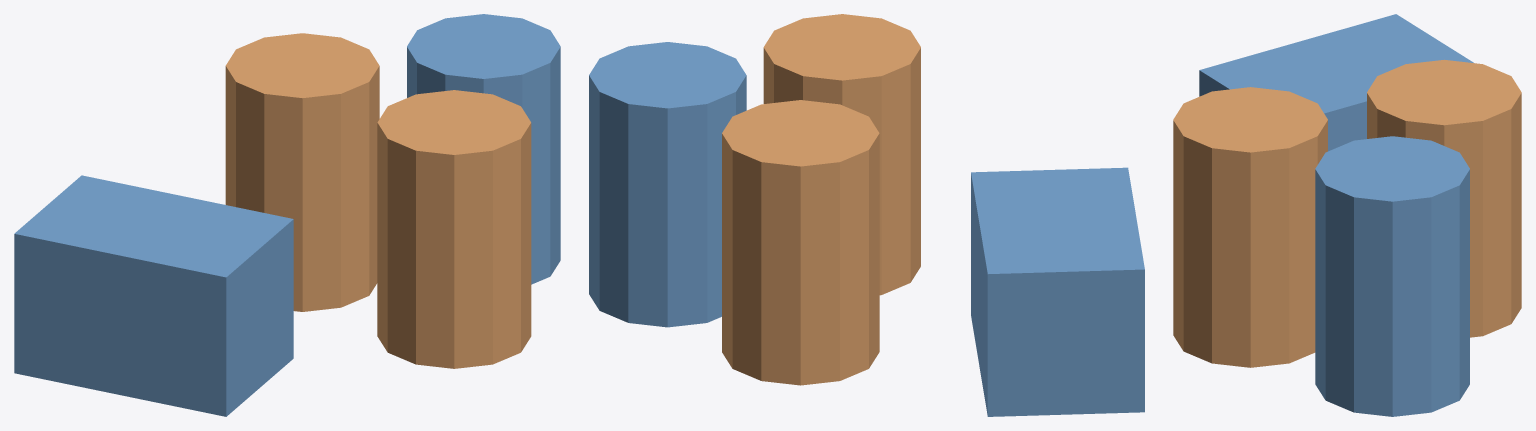
The picture shows the model from 3 angles, left to right: view 1: azimuth 30°, elevation 25°; view 2: azimuth 150°, elevation 25°; view 3: azimuth 270°, elevation 25°; orthographic projection. The views are drawn at different scales.
Visible parts, largest first — view 1: WB_drums; view 2: WB_drums; view 3: WB_drums.
Part boxes in pixels (x1=…): WB_drums: x1=14, y1=14, x2=560, y2=416; WB_drums: x1=589, y1=14, x2=1144, y2=416; WB_drums: x1=1173, y1=14, x2=1521, y2=416.
Size of the model in its own units: 2.41 by 0.92 by 1.35.
